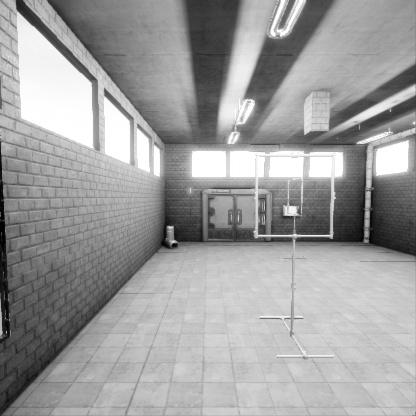gate: (256, 183, 337, 263), (287, 201, 303, 240)
